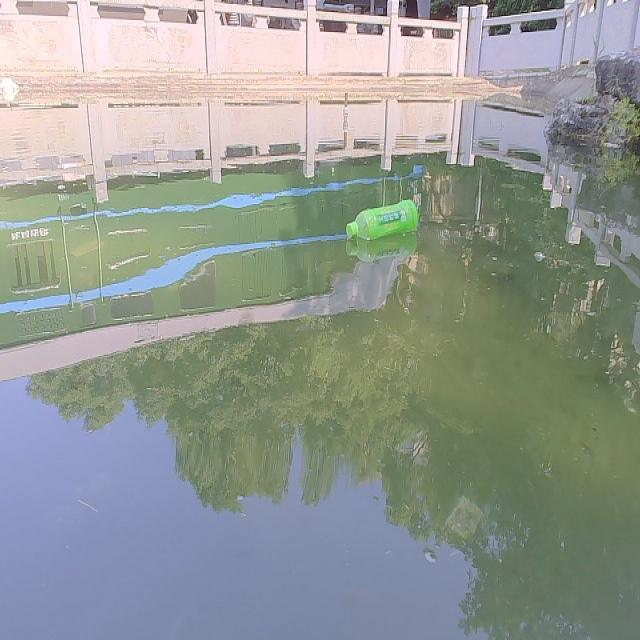bottle: (345, 196, 419, 241)
